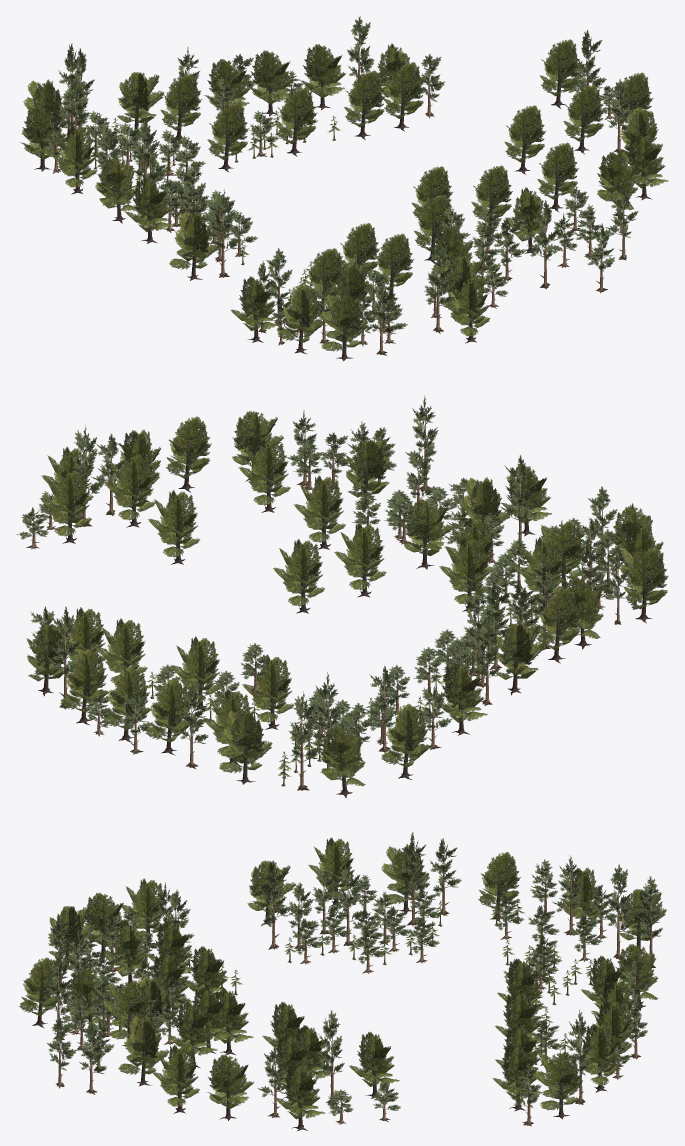
The picture shows the model from 3 angles, top to bottom: view 1: azimuth 30°, elevation 25°; view 2: azimuth 150°, elevation 25°; view 3: azimuth 270°, elevation 25°; orthographic projection. The views are drawn at different scales.
Parts seen in each view (by area): view 1: Tree_Branch_6_0, Tree_Branch_2_0_1, Tree_Branch_2_0, Tree_Wood_6_0, Tree_Wood_5_0, Tree_Branch_2_0_2, Tree_Branch001_0; view 2: Tree_Branch_6_0, Tree_Branch_2_0_1, Tree_Branch_2_0, Tree_Wood_6_0, Tree_Wood_5_0, Tree_Branch_2_0_2, Tree_Branch001_0; view 3: Tree_Branch_6_0, Tree_Branch_2_0_1, Tree_Branch_2_0, Tree_Wood_6_0, Tree_Wood_5_0, Tree_Branch_2_0_2, Tree_Branch001_0, Tree_Wood_01001_0.
Part boxes in pixels (x1,y1,x2,y2): Tree_Branch_6_0: (21,39,668,351); Tree_Branch_2_0_1: (42,16,638,333); Tree_Branch_2_0: (45,24,602,333); Tree_Wood_6_0: (48,32,629,355); Tree_Wood_5_0: (34,59,651,361); Tree_Branch_2_0_2: (360,69,634,287); Tree_Branch001_0: (92,110,340,302); Tree_Branch_6_0: (26,411,668,786); Tree_Branch_2_0_1: (16,395,637,759); Tree_Branch_2_0: (26,424,614,758); Tree_Wood_6_0: (26,411,638,790); Tree_Wood_5_0: (38,426,652,797); Tree_Branch_2_0_2: (21,402,468,672); Tree_Branch001_0: (147,597,537,776); Tree_Branch_6_0: (19,837,666,1119); Tree_Branch_2_0_1: (46,832,662,1116); Tree_Branch_2_0: (49,838,660,1107); Tree_Wood_6_0: (53,851,655,1126); Tree_Wood_5_0: (32,859,645,1130); Tree_Branch_2_0_2: (49,960,573,1115); Tree_Branch001_0: (184,898,622,1053); Tree_Wood_01001_0: (187,902,623,1064).
Size of the model in its own units: 165 by 45.12 by 181.
Materials: 6 (6 with a texture image).
